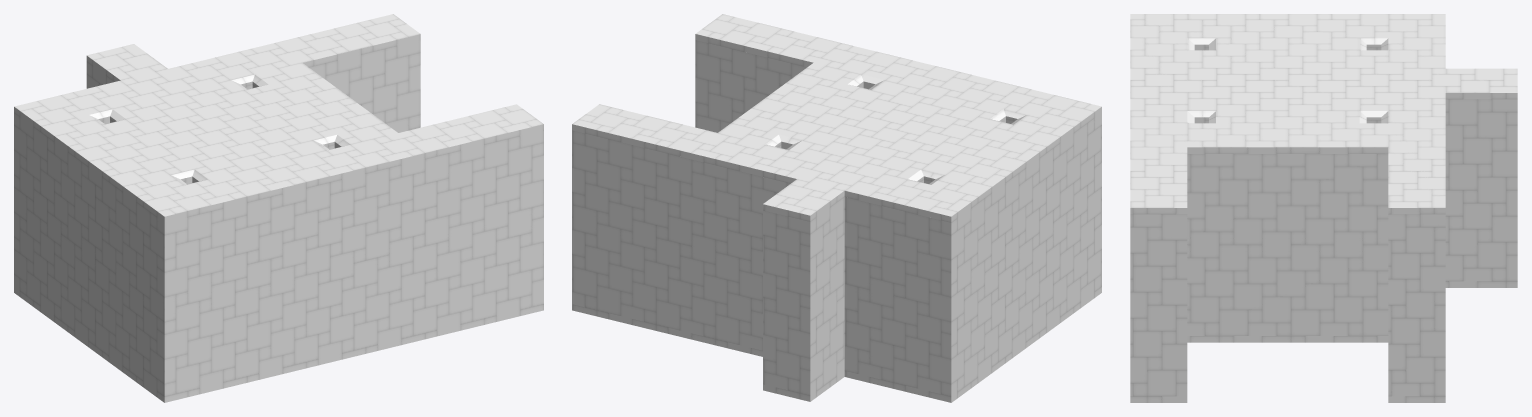
File: Level_H_1.FBX
3 renders of one model, left to right at view 1: azimuth 30°, elevation 25°; view 2: azimuth 150°, elevation 25°; view 3: azimuth 270°, elevation 25°, orthographic. The views are drawn at different scales.
Parts seen in each view (by area): view 1: Text02, Text006, Text01; view 2: Text02, Text006, Text01; view 3: Text02, Text006, Text01.
Boxes of the visible parts, box(x1,y1,x2,y2) form: Text02: box(14, 40, 543, 396); Text006: box(14, 14, 543, 222); Text01: box(14, 287, 543, 402); Text02: box(572, 40, 1101, 396); Text006: box(572, 14, 1101, 222); Text01: box(572, 287, 1101, 402); Text02: box(1130, 99, 1517, 396); Text006: box(1130, 14, 1517, 214); Text01: box(1130, 281, 1517, 402).
Bounding box in the file's own units: 160 × 75 × 135.
